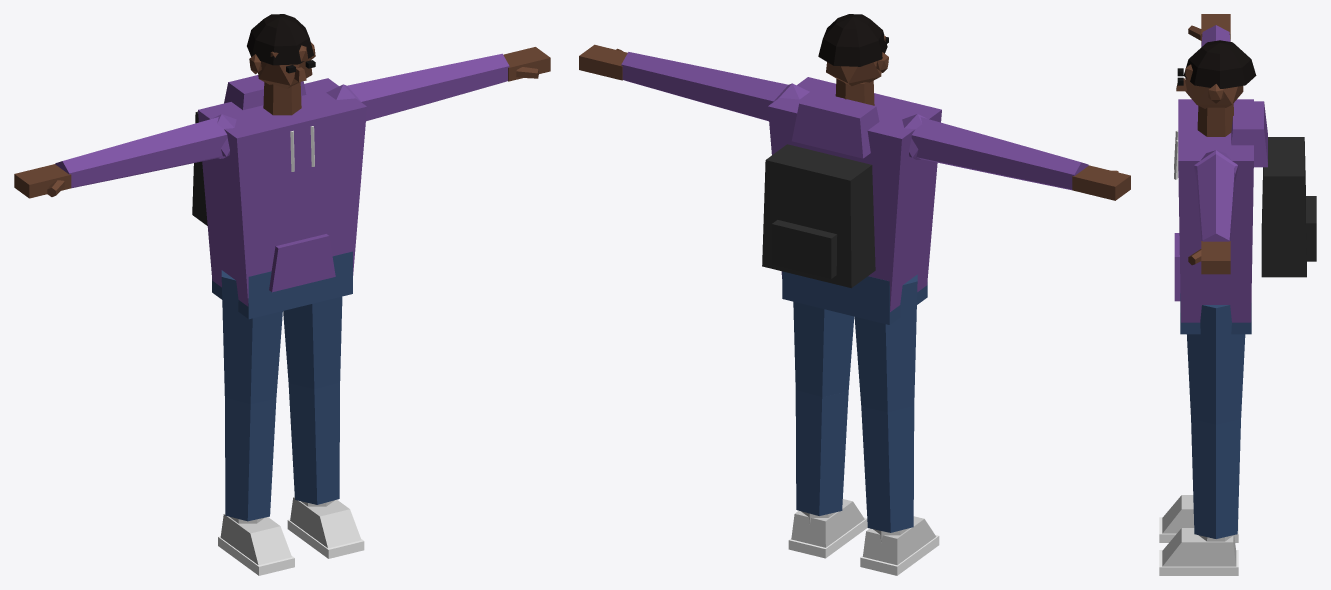
File: Civ_Student.glb
3 renders of one model, left to right at view 1: azimuth 30°, elevation 25°; view 2: azimuth 150°, elevation 25°; view 3: azimuth 270°, elevation 25°, orthographic. The views are drawn at different scales.
Parts seen in each view (by area): view 1: Civ_Student; view 2: Civ_Student; view 3: Civ_Student.
Part boxes in pixels (left/top/right/bottom): Civ_Student: left=14, top=14, right=550, bottom=575; Civ_Student: left=579, top=14, right=1130, bottom=575; Civ_Student: left=1159, top=14, right=1316, bottom=575.
Size of the model in its own units: 1.8 by 1.73 by 0.485.
